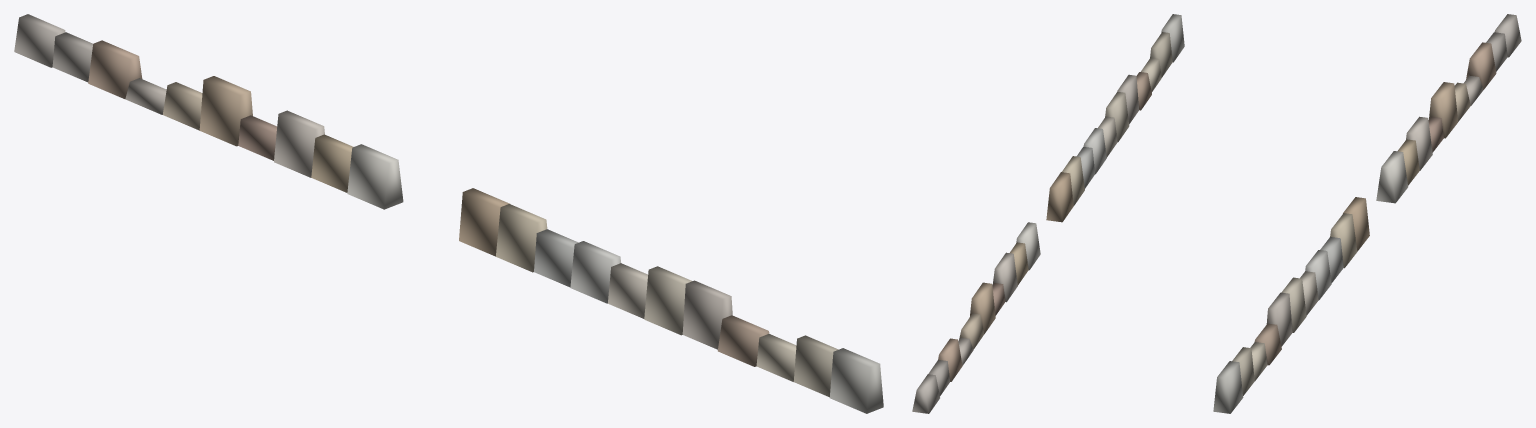
The model's file is farm_-7_-14_collision.glb.
The picture shows the model from 3 angles, left to right: view 1: azimuth 30°, elevation 25°; view 2: azimuth 150°, elevation 25°; view 3: azimuth 330°, elevation 25°; orthographic projection. The views are drawn at different scales.
Visible parts, largest first — view 1: geometry_0; view 2: geometry_0; view 3: geometry_0.
Boxes of the visible parts, left/top/right/bottom form: geometry_0: left=14, top=14, right=883, bottom=413; geometry_0: left=912, top=14, right=1184, bottom=413; geometry_0: left=1213, top=14, right=1521, bottom=413.
Bounding box in the file's own units: 8.53 × 2.27 × 34.92.
